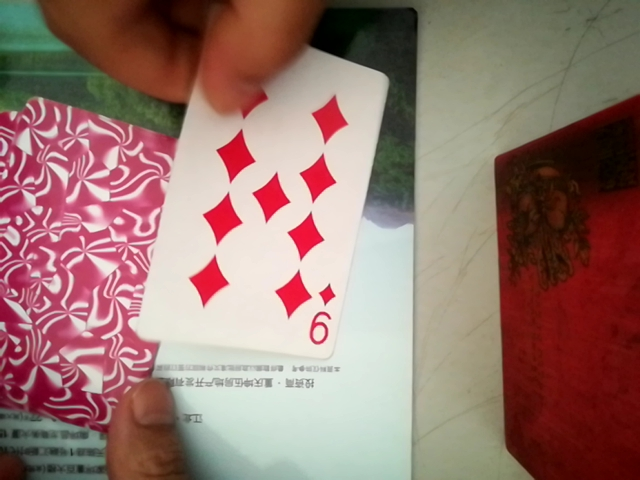fk 9: (131, 47, 387, 370)
